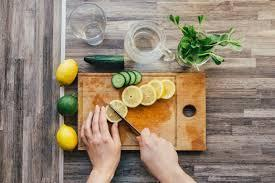lemon: (56, 58, 78, 86), (56, 124, 77, 150), (106, 100, 128, 122), (122, 86, 142, 108), (140, 84, 156, 105), (148, 80, 163, 99), (161, 79, 175, 99)
